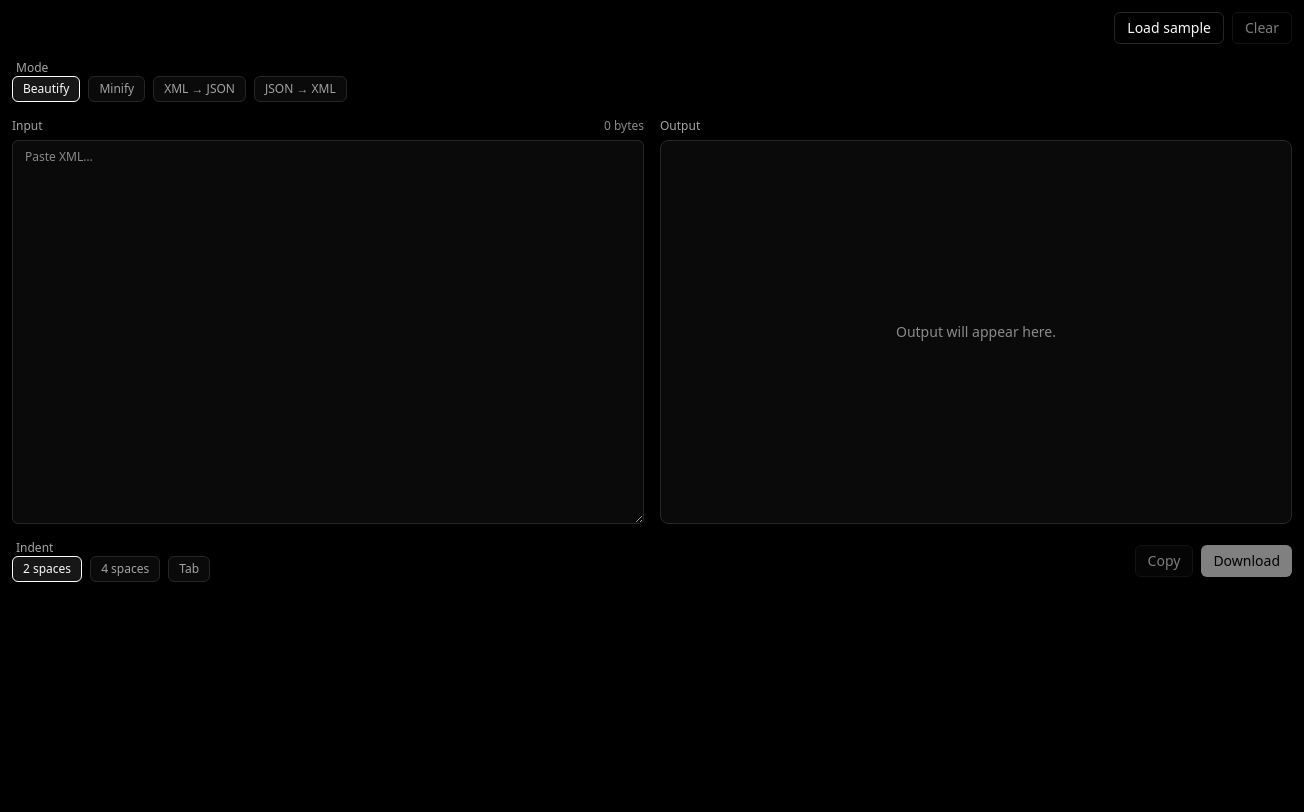
Test: XmlFormatTool › beautifies valid XML after debounce
Type "<a><b>1</b></a>" into the text box with placeholder "Paste XML…" at (328, 332), box left=12, top=140, right=644, bottom=524
Wait 250 ms
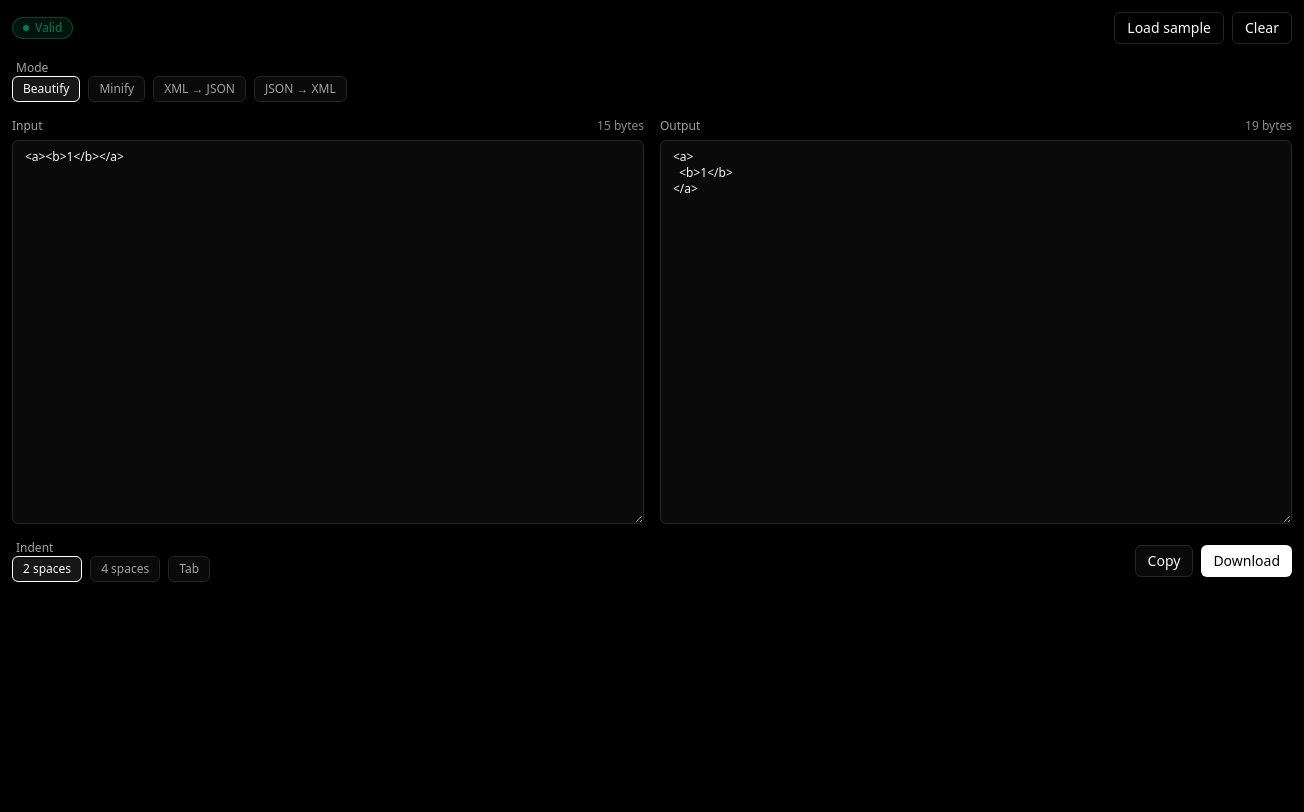
Expected: the text "Valid" is shown, left=12, top=17, right=73, bottom=39
